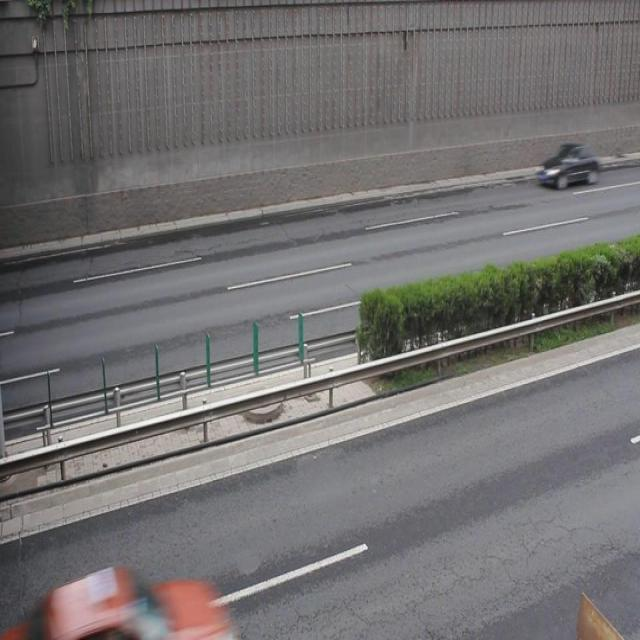car: (0, 567, 244, 640), (535, 136, 600, 188)
